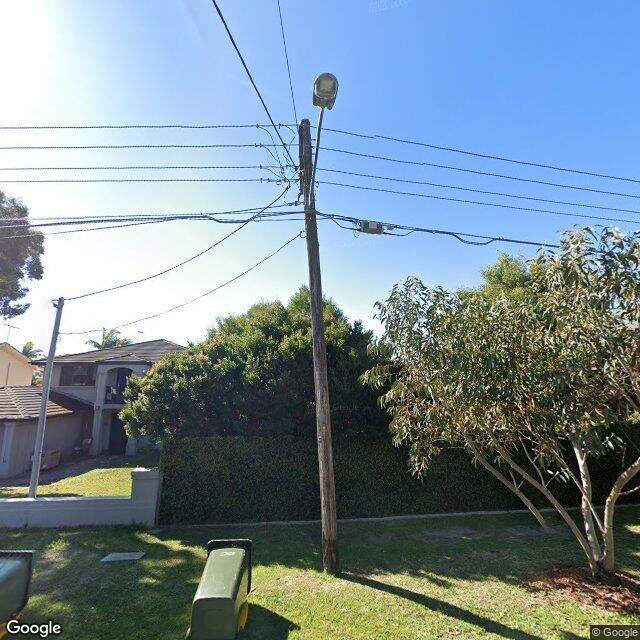crossarm: (296, 121, 306, 205)
steel-pole: (28, 296, 65, 499)
streetlight: (308, 72, 339, 206)
timber-pole: (299, 120, 339, 575)
